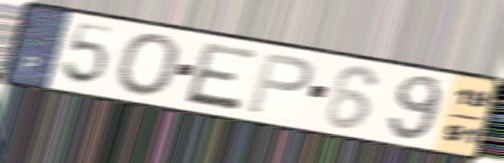5: (58, 19, 120, 87)
6: (321, 65, 385, 132)
9: (384, 73, 447, 142)
E: (181, 40, 261, 113)
O: (112, 32, 183, 99)
P: (245, 50, 316, 117)
